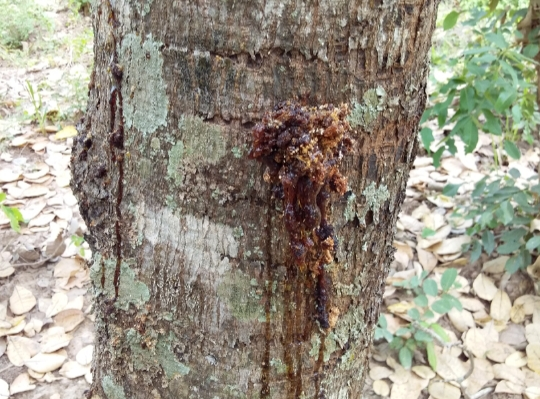Apate terebrans: (247, 104, 399, 351)
